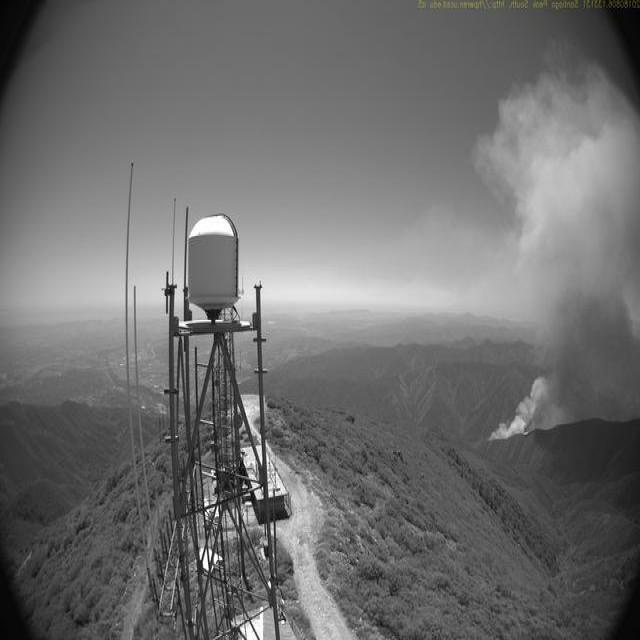smoke: (481, 62, 639, 442)
